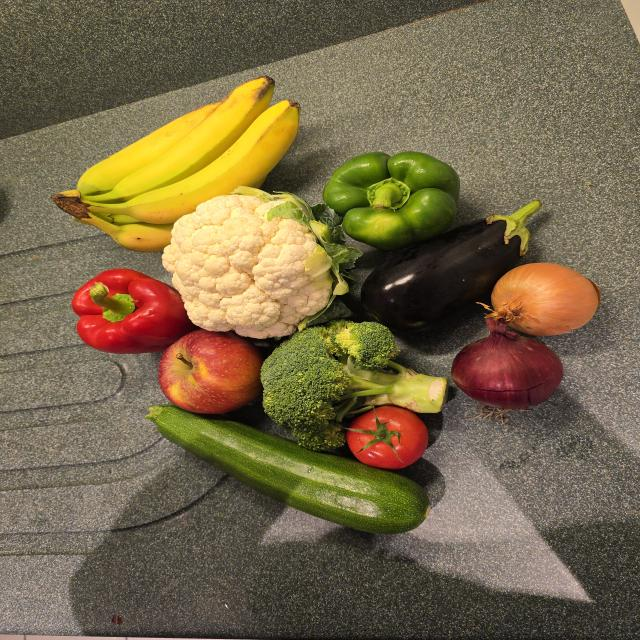Apple: (159, 329, 263, 413)
Banana: (53, 75, 300, 255)
Bell Pepper: (323, 151, 459, 253), (72, 269, 196, 354)
Broccoli: (261, 320, 447, 451)
Cauliflower: (162, 194, 346, 339)
Courgette: (146, 406, 430, 533)
Eggplant: (360, 198, 545, 332)
Onion: (451, 318, 563, 409), (488, 263, 599, 336)
Tomato: (346, 405, 428, 469)
